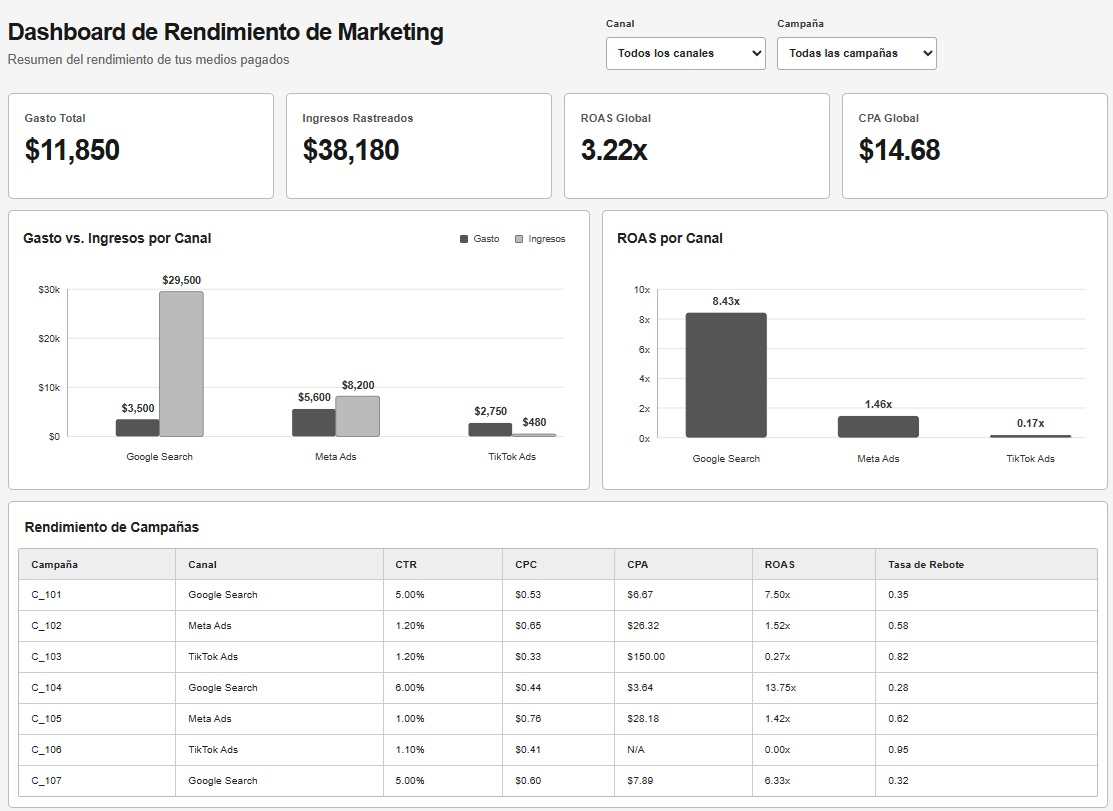

The dashboard page shown, as its layout file describes it:
{"tool":"powerbi","page":{"name":"Campaigns","canvas":[1920,1080],"ordinal":0},"visuals":[{"type":"cardVisual","fields":{"Data":["_Measures.Total Spend"]},"box":[235.8,107.8,399.2,154.9],"z":0},{"type":"cardVisual","fields":{"Data":["_Measures.Tracked Revenue"]},"box":[663.6,107.8,399.2,154.9],"z":1000},{"type":"cardVisual","fields":{"Data":["_Measures.Global ROAS"]},"box":[1094.7,107.8,399.2,154.9],"z":2000},{"type":"cardVisual","fields":{"Data":["_Measures.Global CPA"]},"box":[1520.8,107.8,399.2,154.9],"z":3000},{"type":"clusteredColumnChart","title":"Gasto vs. Ingresos por Canal","fields":{"Category":["dim_Channel.channel"],"Y":["Sum(facts_Campaign.spend_usd)","Sum(facts_Campaign.tracked_revenue_usd)"]},"box":[235,291.7,918.3,471.7],"z":4000},{"type":"clusteredColumnChart","fields":{"Category":["dim_Channel.channel"],"Y":["_Measures.Global ROAS"]},"box":[1211.7,291.7,708.3,471.7],"z":5000},{"type":"tableEx","fields":{"Values":["dim_Campaign.campaign_id","dim_Channel.channel","_Measures.CTR","_Measures.CPC","_Measures.Global CPA","_Measures.Global ROAS","Sum(facts_Campaign.bounce_rate)"]},"box":[236.4,779.1,1683.6,300.5],"z":6000},{"type":"advancedSlicerVisual","fields":{"Values":["dim_Channel.channel"]},"box":[1117.6,20.4,351.6,77.3],"z":6001},{"type":"advancedSlicerVisual","fields":{"Values":["dim_Campaign.campaign_id"]},"box":[1520.2,20.4,360.4,77.3],"z":6002}]}

Visuals, with their boxes on the page's 1920x1080 design canvas (x1, y1, x2, y2). These are canvas units, not pixel positions in the 1113x811 screenshot, which may show the page scaled, cropped or inside an application window:
cardVisual - _Measures.Total Spend: 236:108:635:263
cardVisual - _Measures.Tracked Revenue: 664:108:1063:263
cardVisual - _Measures.Global ROAS: 1095:108:1494:263
cardVisual - _Measures.Global CPA: 1521:108:1920:263
"Gasto vs. Ingresos por Canal" clusteredColumnChart: 235:292:1153:763
clusteredColumnChart - dim_Channel.channel x _Measures.Global ROAS: 1212:292:1920:763
tableEx - dim_Campaign.campaign_id x dim_Channel.channel: 236:779:1920:1080
advancedSlicerVisual - dim_Channel.channel: 1118:20:1469:98
advancedSlicerVisual - dim_Campaign.campaign_id: 1520:20:1881:98
